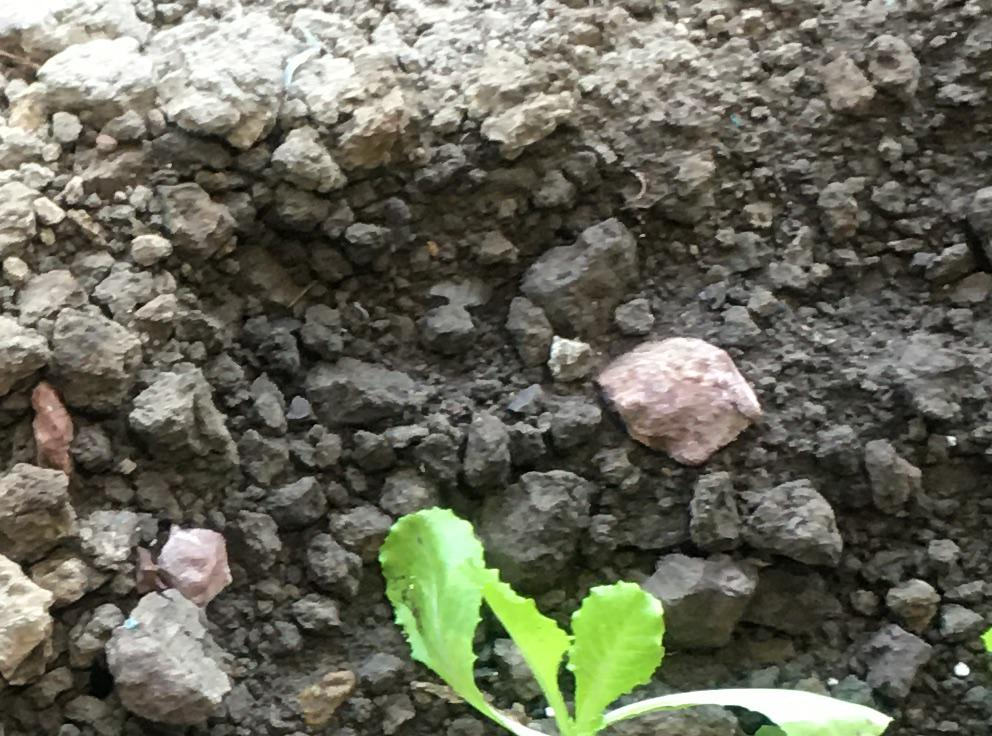block: (600, 337, 758, 463), (107, 593, 230, 732), (473, 475, 589, 590), (39, 40, 154, 136), (131, 371, 234, 470), (45, 304, 133, 418), (739, 475, 844, 567)
